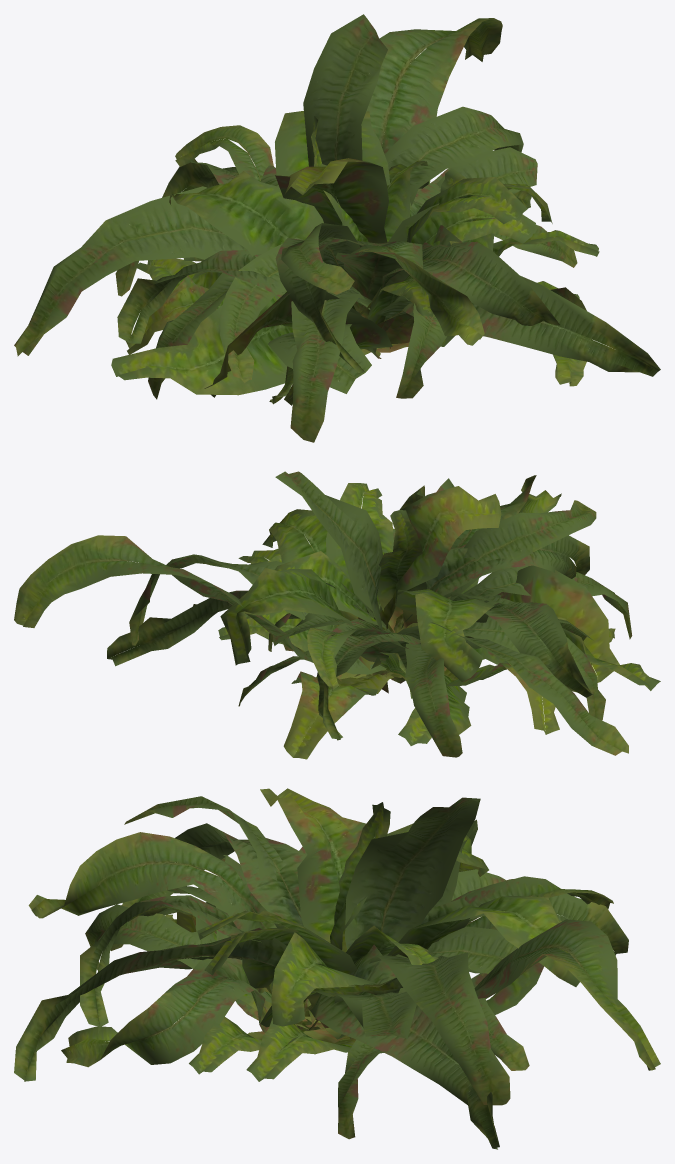
Rendered from fern.glb.
3 renders of one model, top to bottom at view 1: azimuth 30°, elevation 25°; view 2: azimuth 150°, elevation 25°; view 3: azimuth 270°, elevation 25°, orthographic. The views are drawn at different scales.
Visible parts, largest first — view 1: fern_v0_lod0, fern_v1_lod0, fern_v2_lod0; view 2: fern_v0_lod0, fern_v1_lod0, fern_v2_lod0; view 3: fern_v0_lod0, fern_v1_lod0, fern_v2_lod0.
Part boxes in pixels (left/top/right/bottom): fern_v0_lod0: left=14, top=14, right=660, bottom=442; fern_v1_lod0: left=111, top=116, right=591, bottom=405; fern_v2_lod0: left=137, top=168, right=579, bottom=404; fern_v0_lod0: left=14, top=471, right=632, bottom=759; fern_v1_lod0: left=107, top=478, right=660, bottom=757; fern_v2_lod0: left=268, top=544, right=615, bottom=745; fern_v0_lod0: left=14, top=788, right=660, bottom=1139; fern_v1_lod0: left=61, top=796, right=613, bottom=1149; fern_v2_lod0: left=128, top=898, right=408, bottom=1074.
Size of what is drawn, in the model's own units: 0.9903 by 0.4292 by 0.895.
Materials: 1 (1 with a texture image).
